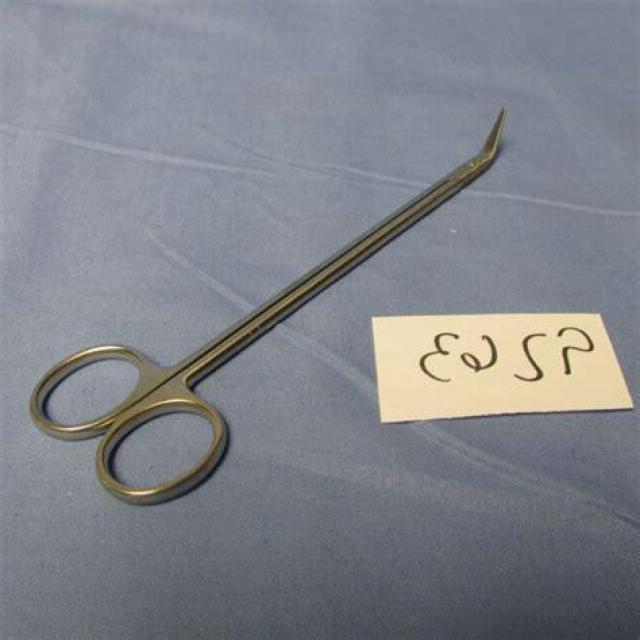Potts: (24, 100, 512, 513)
